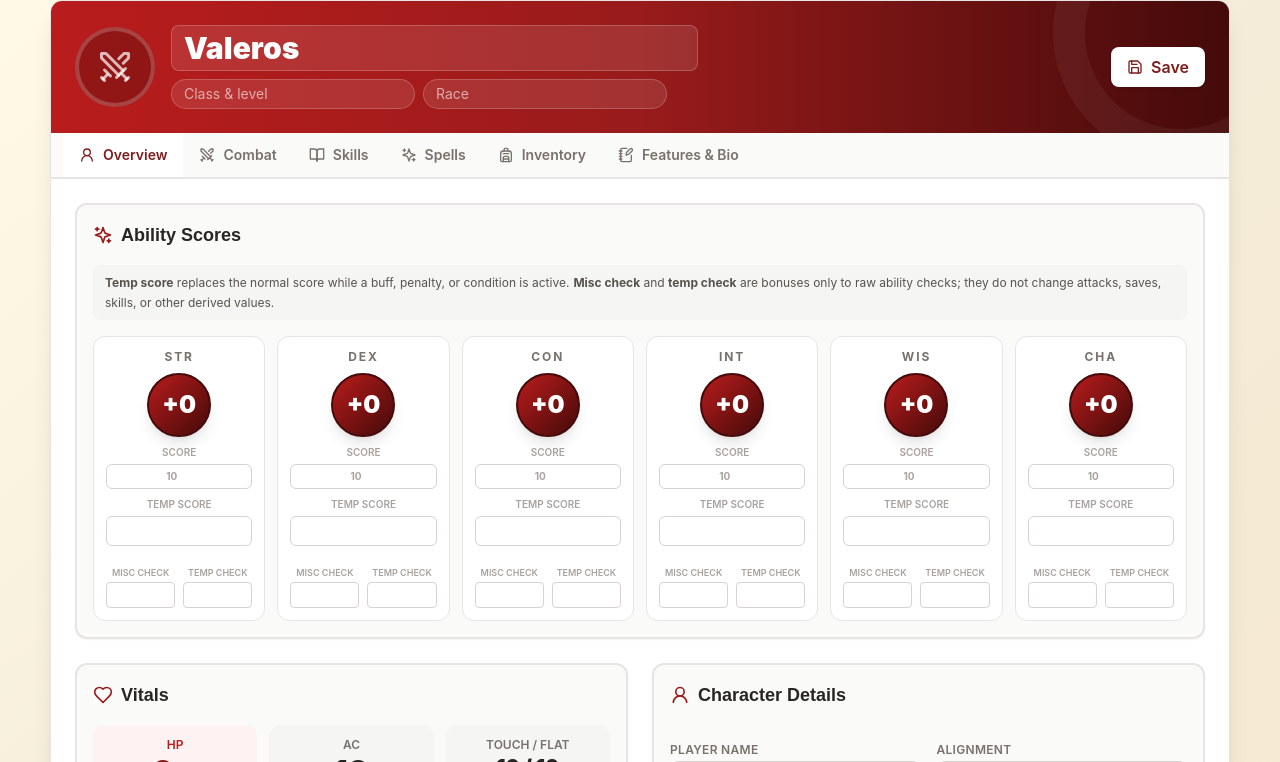
Pathfinder1eCharacterSheet › imports official feats while keeping their fields editable
Click the button "Features & Bio".
click(678, 156)  # box [602,133,755,179]
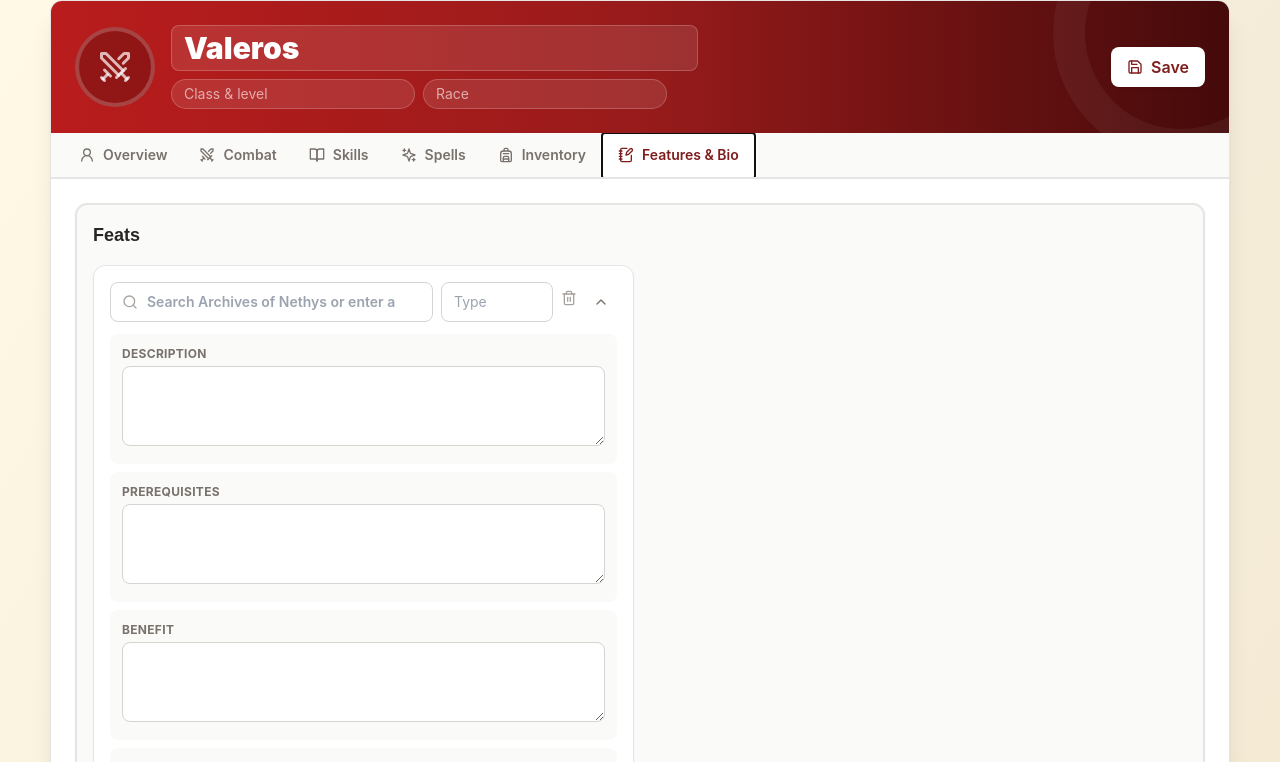
Type "Power" into the field with placeholder "Search Archives of Nethys or enter a custom feat…".
click(272, 302); type("Power")  # box [110,282,433,322]
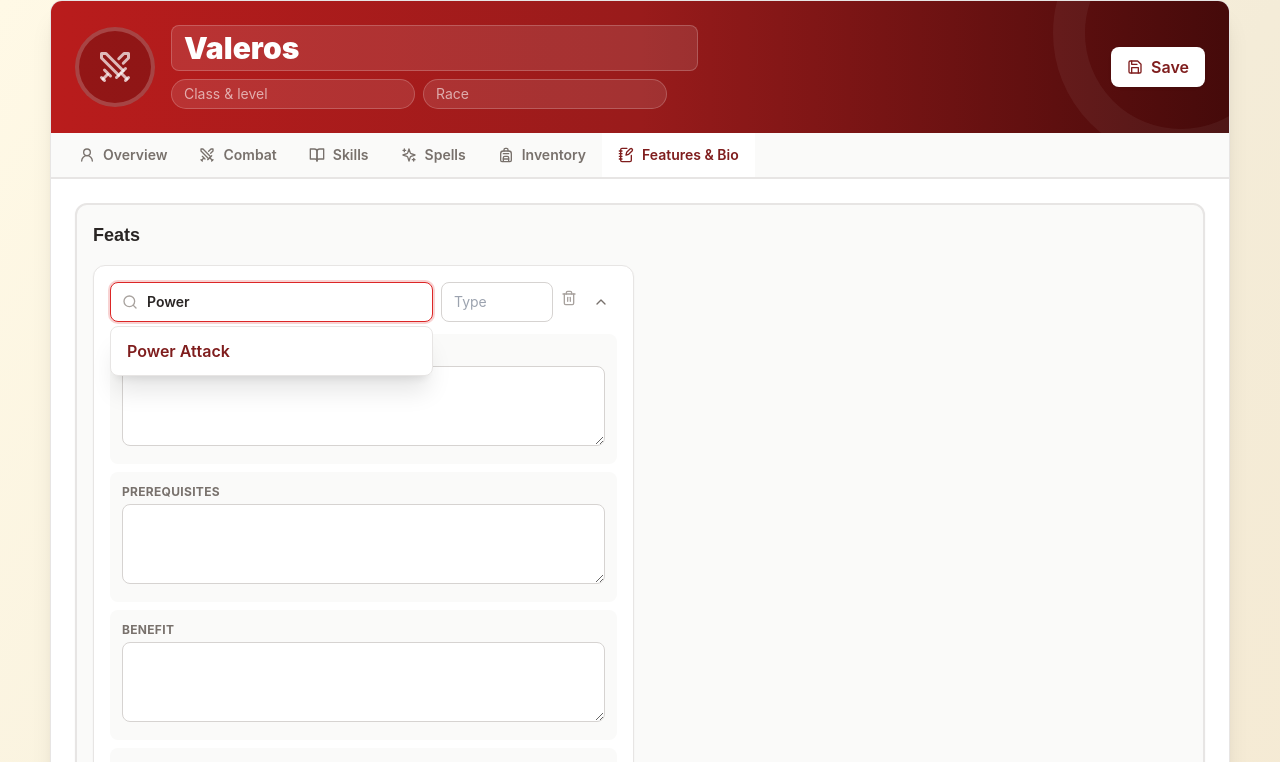
Click the button "Power Attack".
click(178, 351)  # box [115,331,428,371]
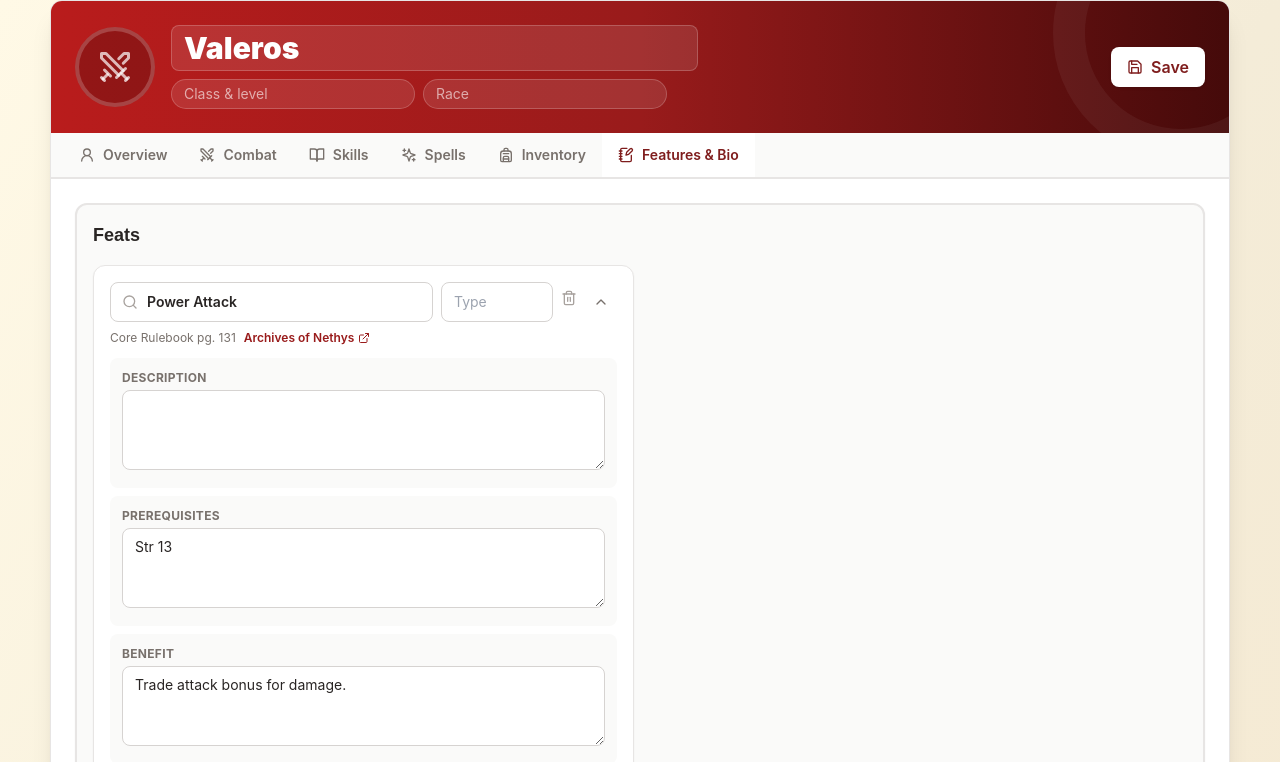
Now the text box named "Feat Prerequisites" holds "Str 13", box [122,528,605,608]
Now the text box named "Feat Benefit" holds "Trade attack bonus for damage.", box [122,666,605,746]
Now the link "Archives of Nethys" is shown, box [244,330,370,346]
